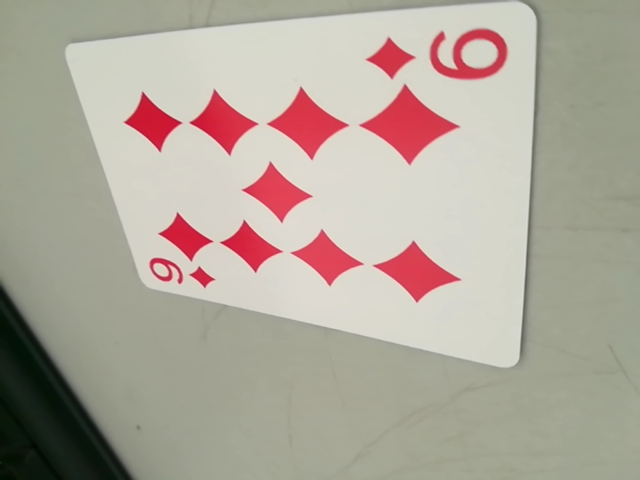fk 9: (368, 19, 512, 93), (143, 255, 222, 296)
